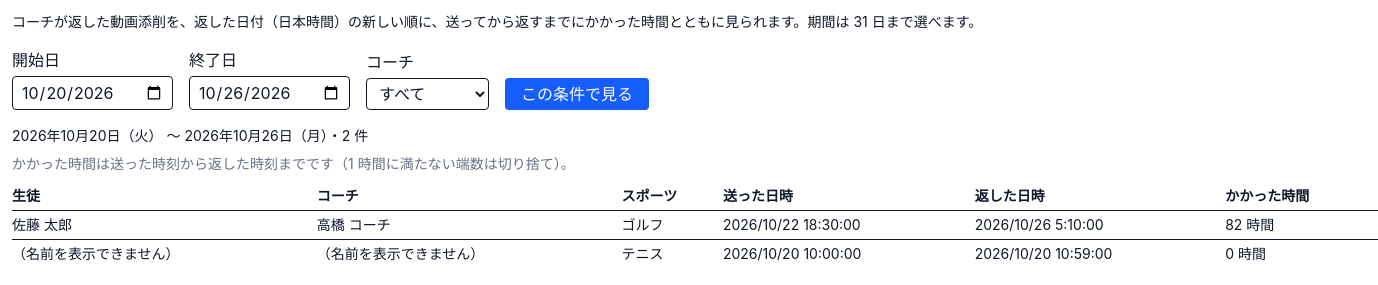
Test: 本部の返した動画添削 › 後から変えた条件の結果だけを出す（前の条件の遅れた結果で上書きしない）
Expected: the table is shown, 12,182 -> 1377,268
Select "鈴木 コーチ" in the dropdown labelled "コーチ". click: (428, 94)
box: 366,78 -> 489,110
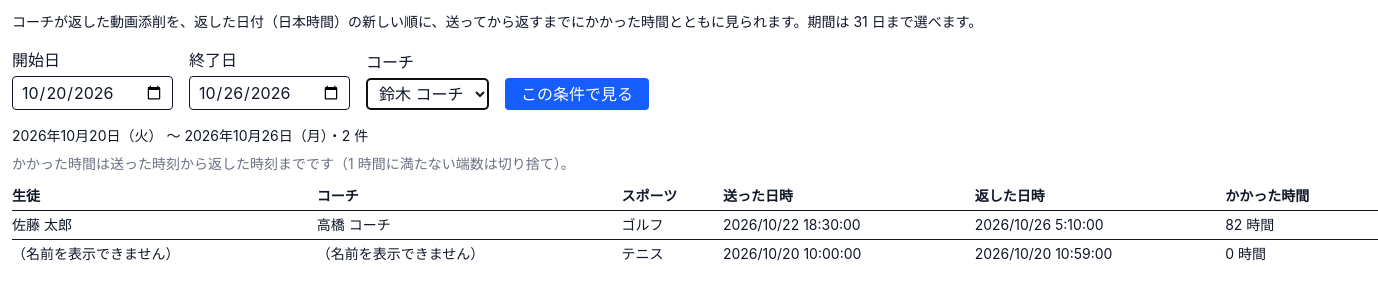
Click the button "この条件で見る". click: (577, 94)
box: 505,78 -> 649,110
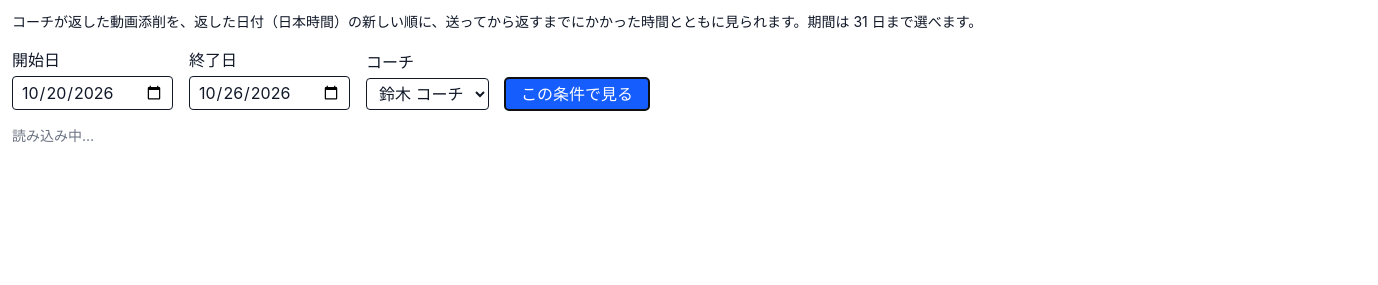
Select "高橋 コーチ" in the dropdown labelled "コーチ". click: (428, 94)
box: 366,78 -> 489,110
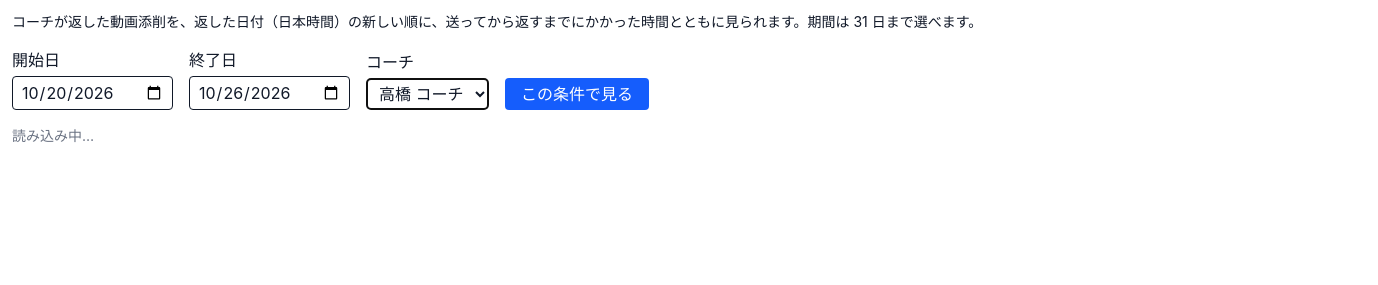
Click the button "この条件で見る". click: (577, 94)
box: 505,78 -> 649,110
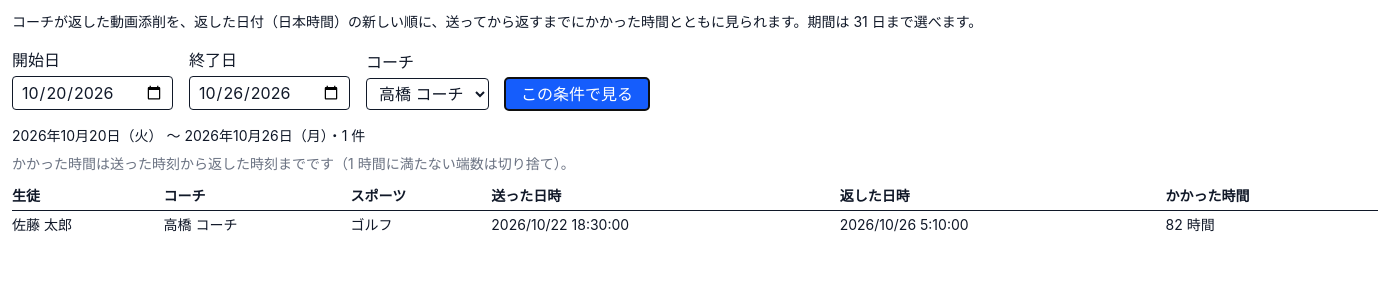
Result: the number of rows is 2 at 12,182 -> 1377,210; 12,210 -> 1377,239
Result: the row "佐藤 太郎" is shown at 12,210 -> 1377,239
